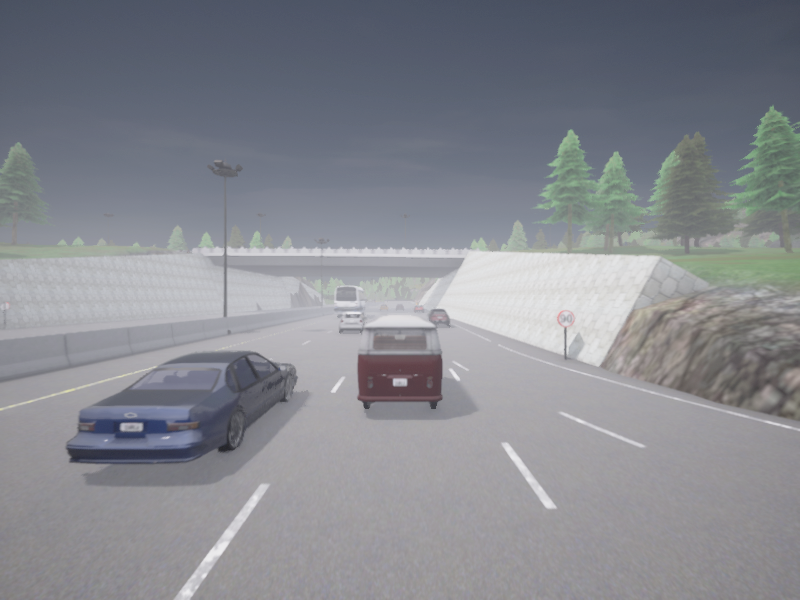vehicle: (66, 351, 297, 463), (357, 315, 442, 409), (334, 286, 366, 316), (339, 312, 367, 332), (426, 308, 449, 326), (413, 305, 423, 312), (380, 304, 388, 310), (396, 304, 403, 309)
